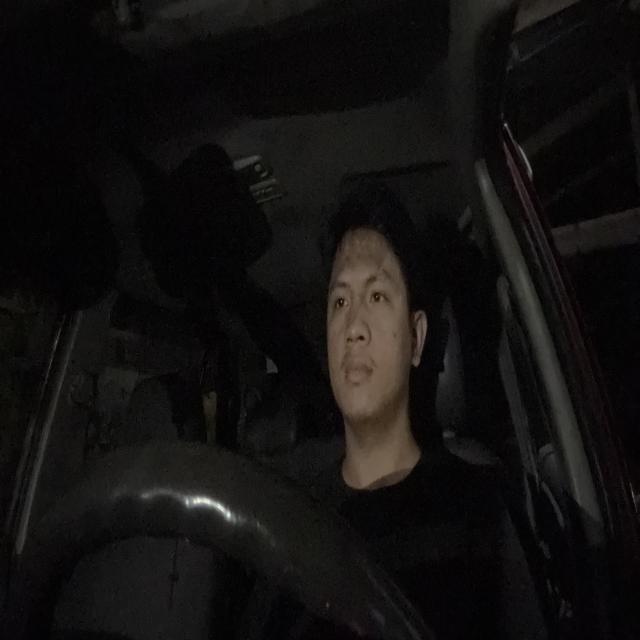open: (364, 270, 397, 318), (329, 277, 351, 320)
